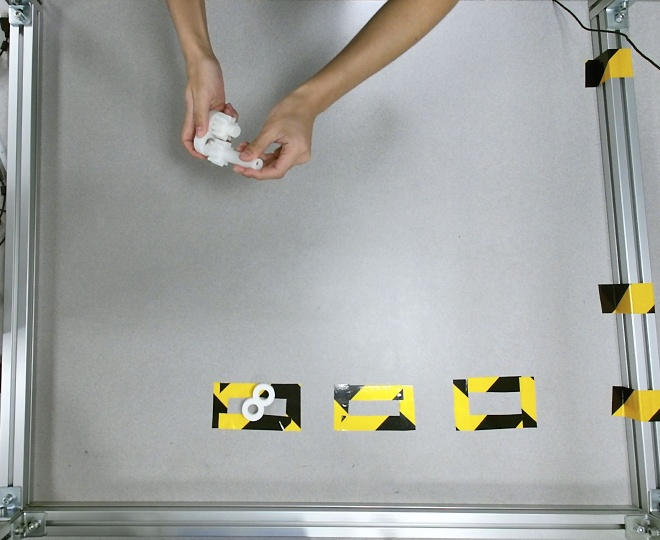stage_2: (194, 111, 240, 156)
